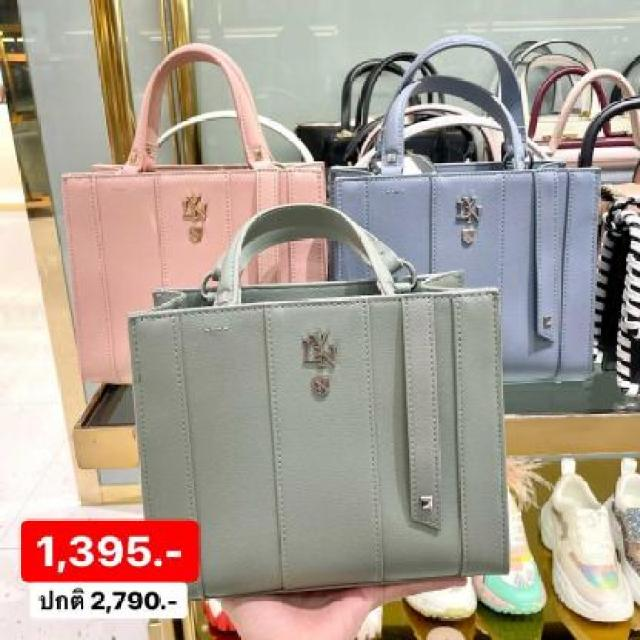Bag: (78, 144, 590, 591)
